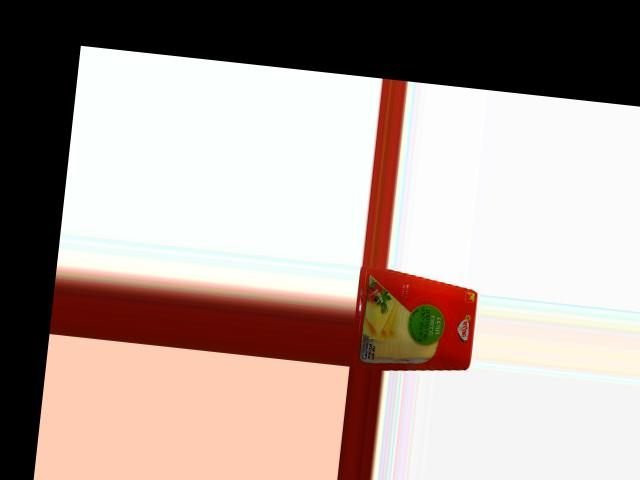cheese: (349, 265, 478, 377)
